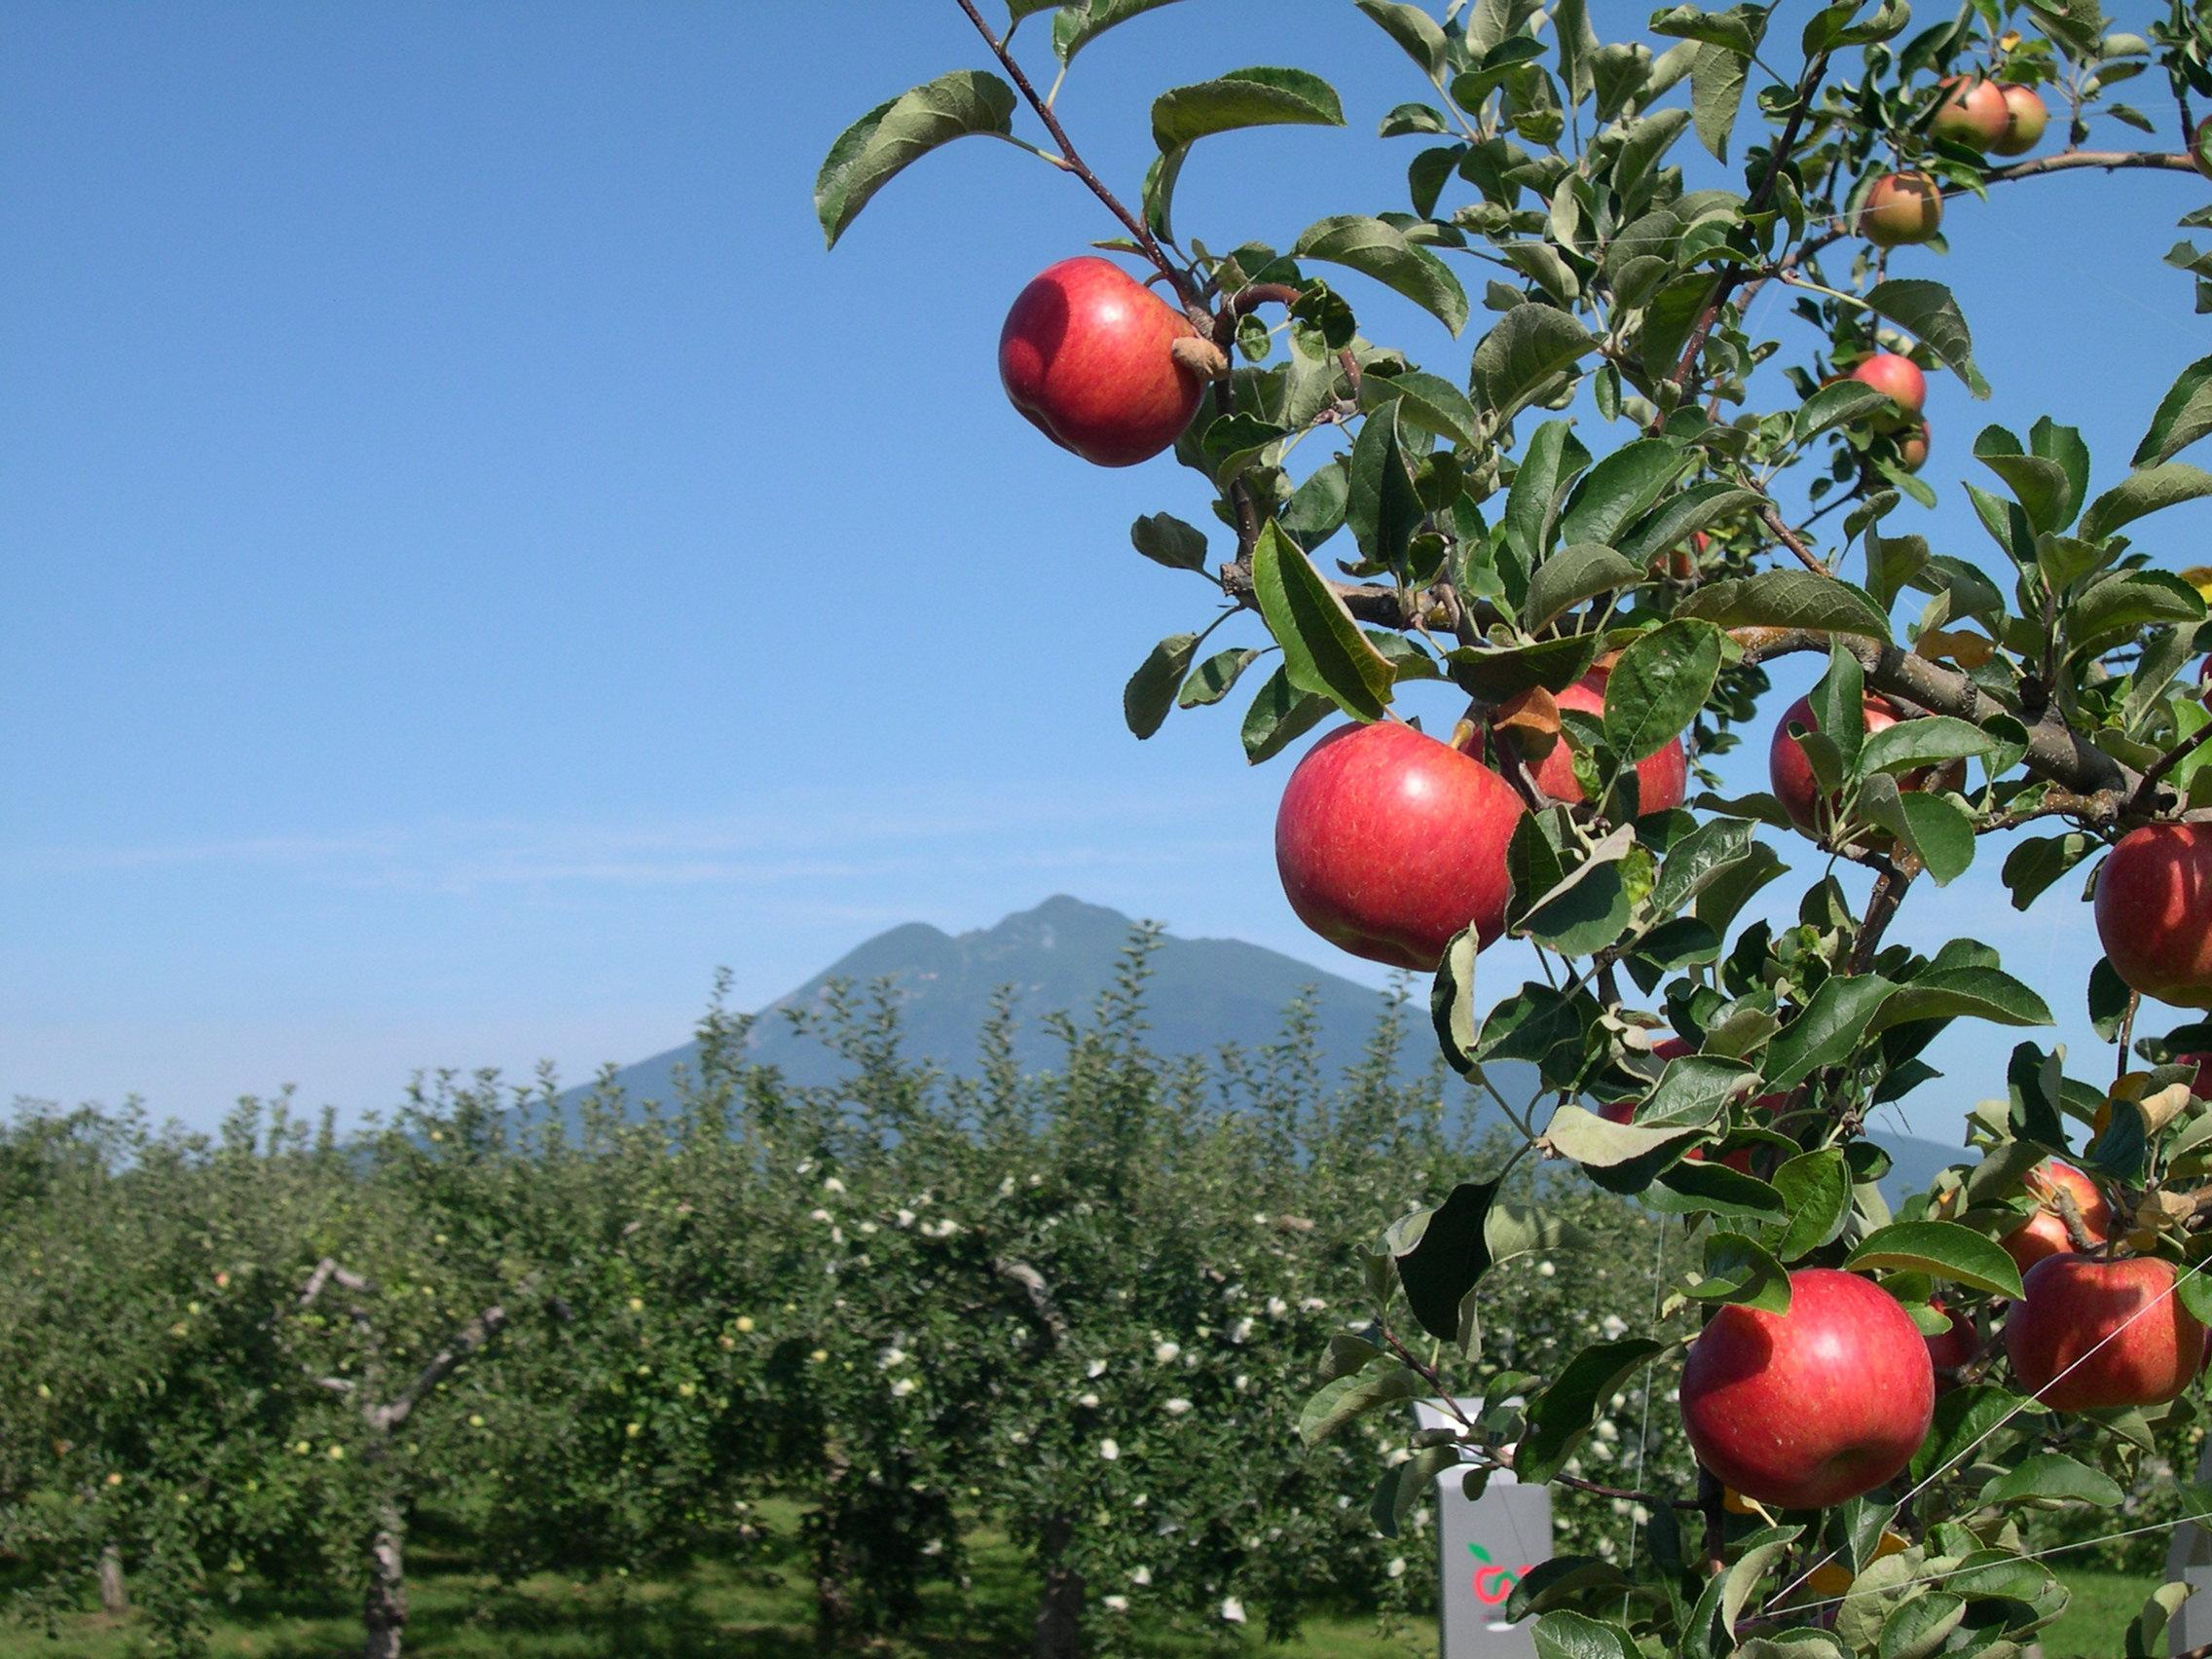apple: (1268, 720, 1522, 979), (1670, 1269, 1939, 1504), (993, 251, 1219, 481), (1451, 667, 1691, 835), (2003, 1249, 2207, 1413)
